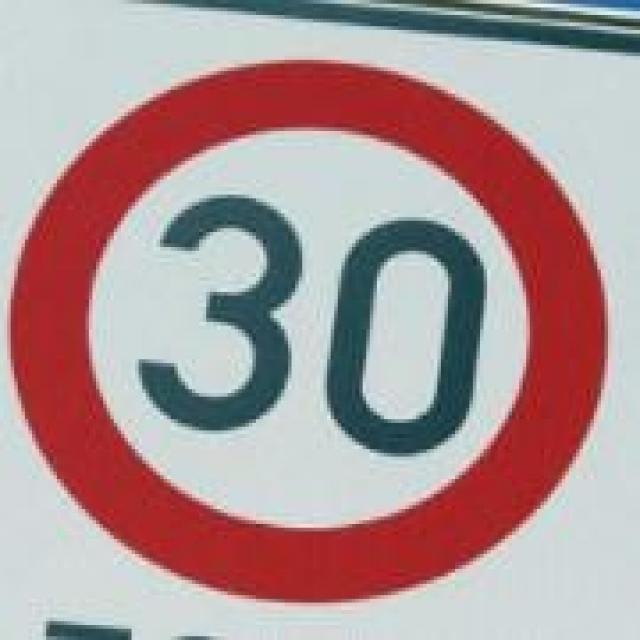traffic_sign: (7, 52, 601, 595)
